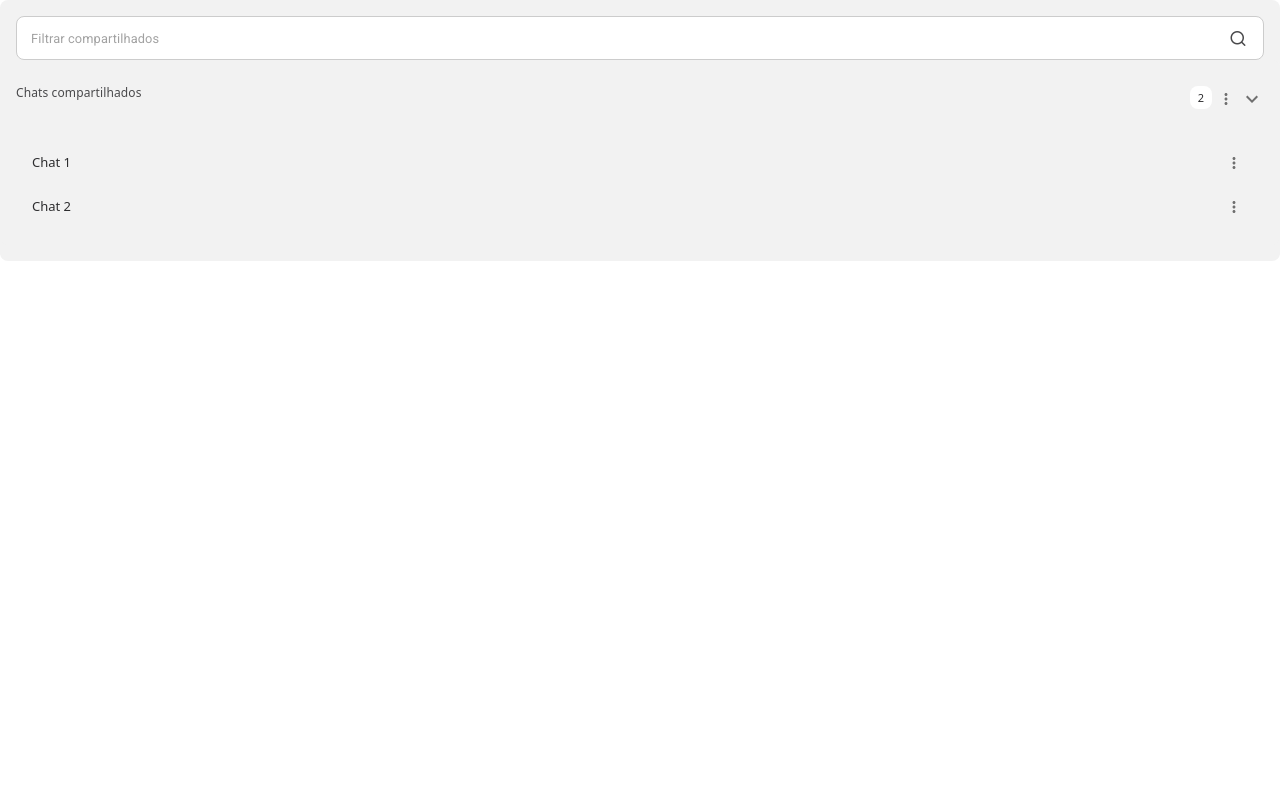
it: Sharing Component › abre e fecha o modal de deletar um chat específico
What coordinates should you click on to do the following:
click the 1st button with test id "more-button"
I would click on:
 (1234, 163)
Its box is [1220,149,1248,177].
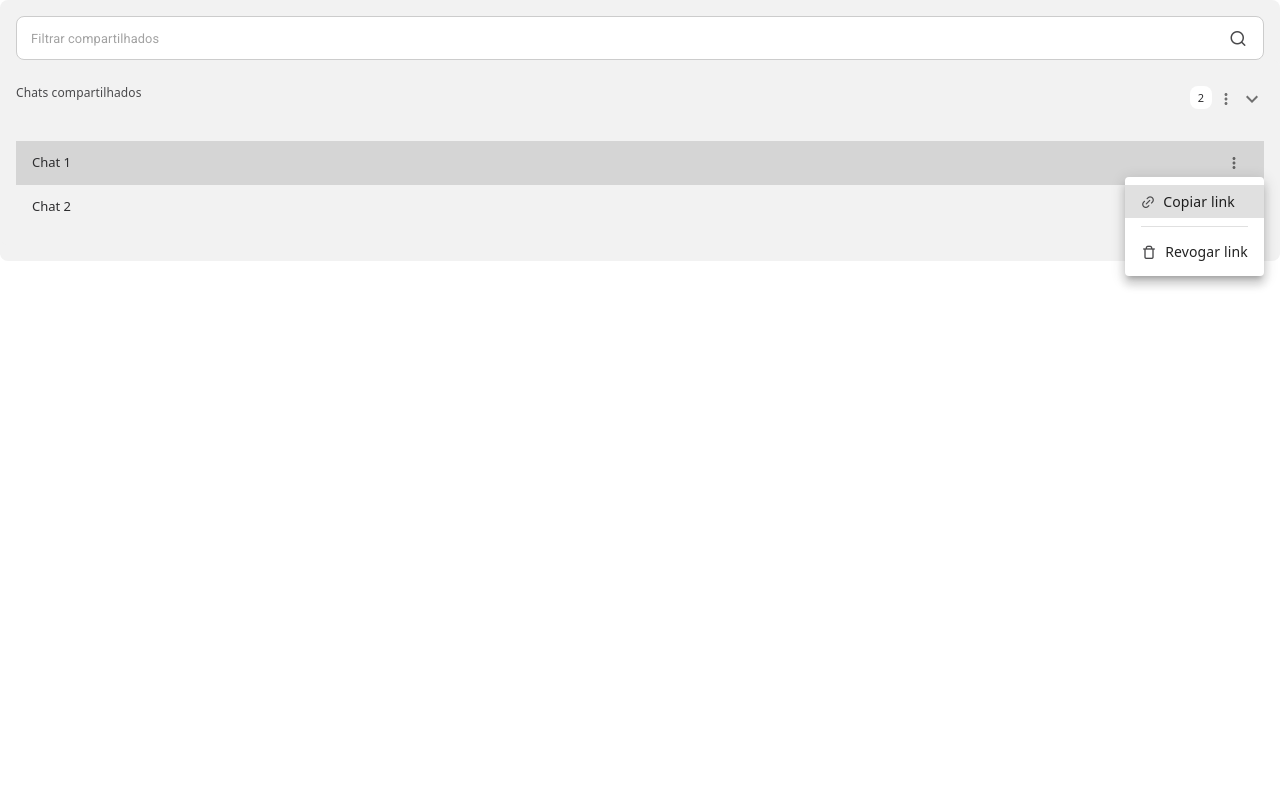
What coordinates should you click on to do the following:
click the menu item "Revogar link"
I would click on:
 (1194, 252)
Its box is [1141,242,1248,261].
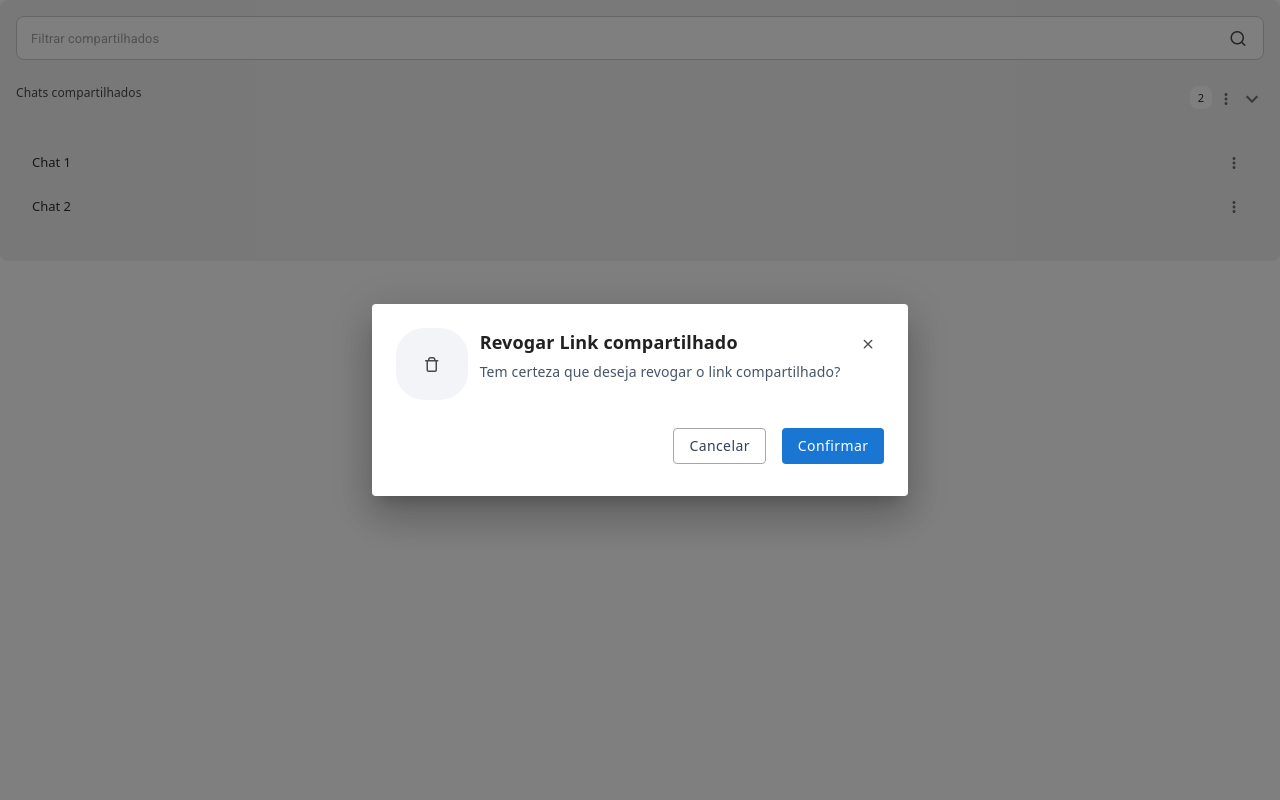
Expected: the heading "Revogar Link compartilhado" is shown, [480,328,738,357]
What coordinates should you click on to do the following:
click the button "Cancelar"
I would click on:
 (720, 446)
Its box is [673,428,766,464].
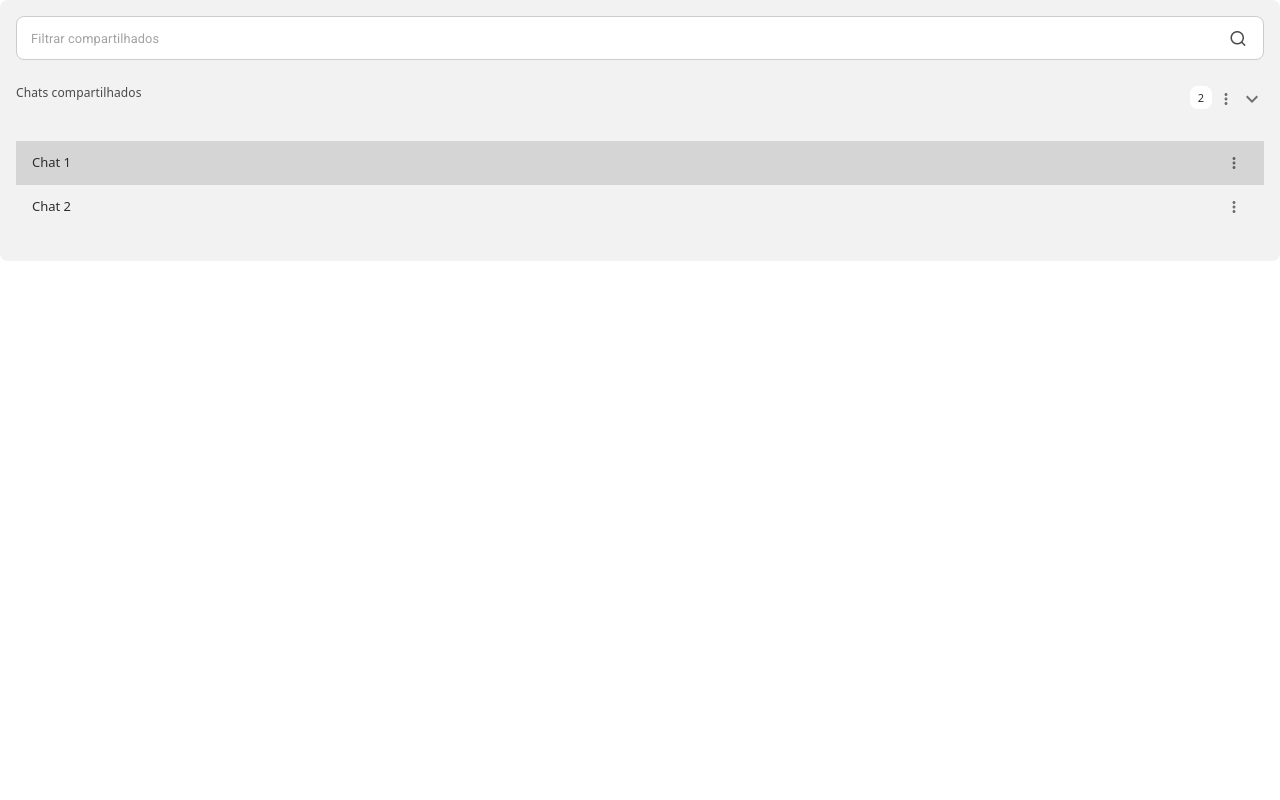
Expected: the heading "Revogar Link compartilhado" is gone
